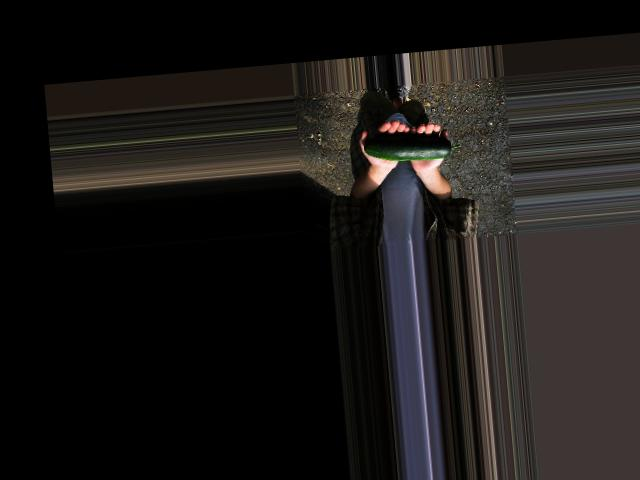cucumber: (364, 128, 463, 164)
